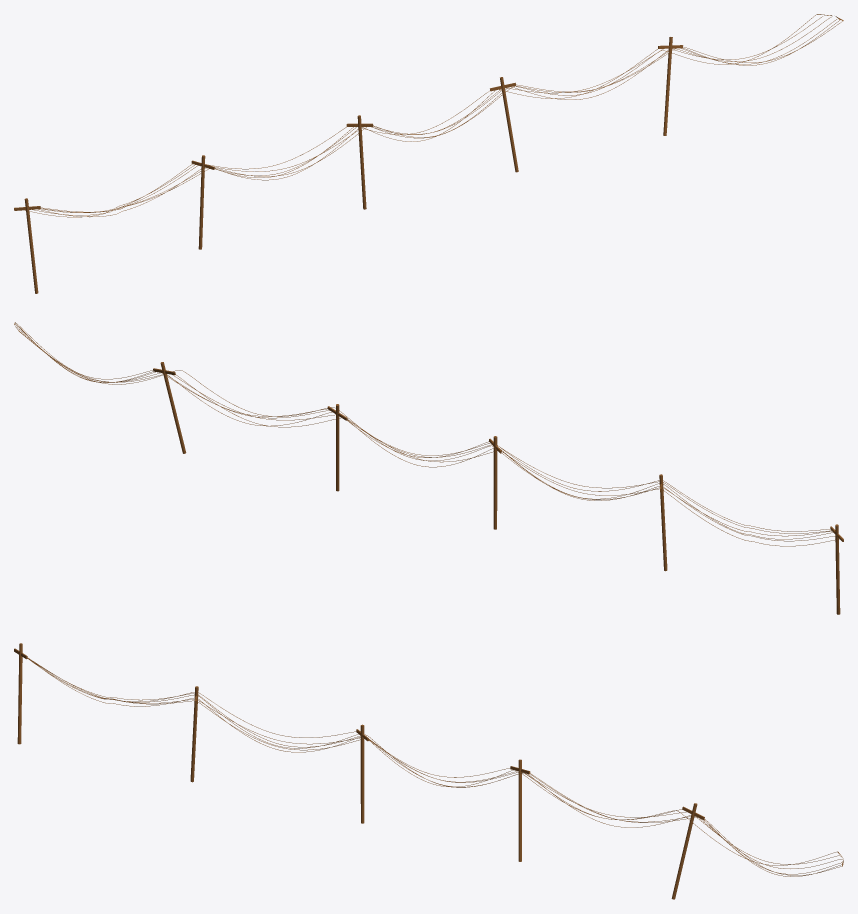
File: PostesElectrcidadFinal.fbx
3 views of the same model, one above another, from view 1: azimuth 30°, elevation 25°; view 2: azimuth 150°, elevation 25°; view 3: azimuth 330°, elevation 25° (orthographic). The views are drawn at different scales.
Visible parts, largest first — view 1: BézierCurve; view 2: BézierCurve; view 3: BézierCurve.
Part boxes in pixels (<box>): BézierCurve: <box>14,14,843,293</box>; BézierCurve: <box>14,322,843,614</box>; BézierCurve: <box>14,643,843,899</box>.
Size of the model in its own units: 5584 by 619 by 205.
